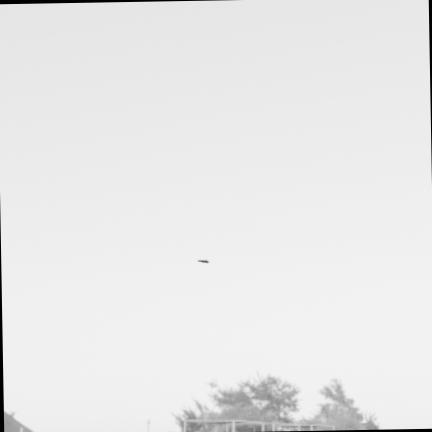Shahed: (198, 259, 208, 262)
